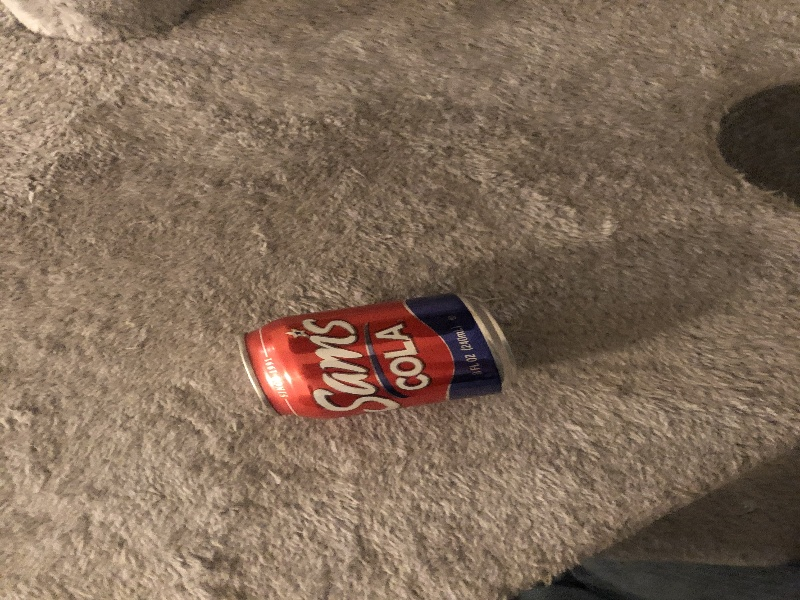metal: (233, 292, 514, 421)
